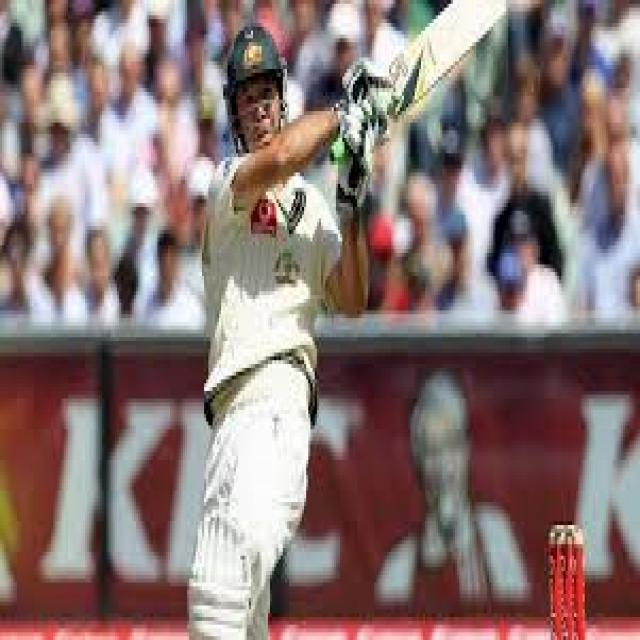toe: (452, 0, 509, 16)
